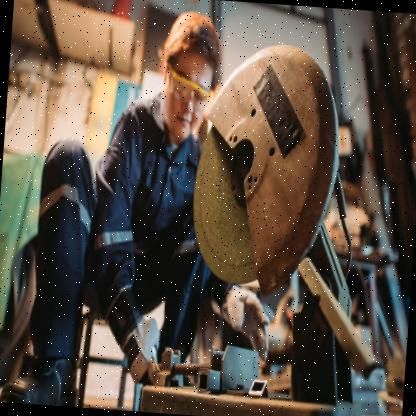bota: (0, 354, 81, 407)
oculos: (161, 59, 216, 118)
